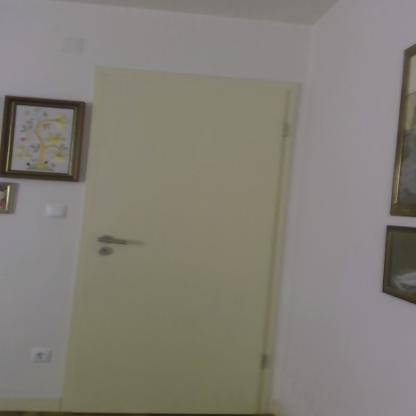door: (95, 75, 264, 416)
hinged: (260, 353, 272, 368), (282, 122, 292, 138)
lever: (96, 236, 132, 246)
